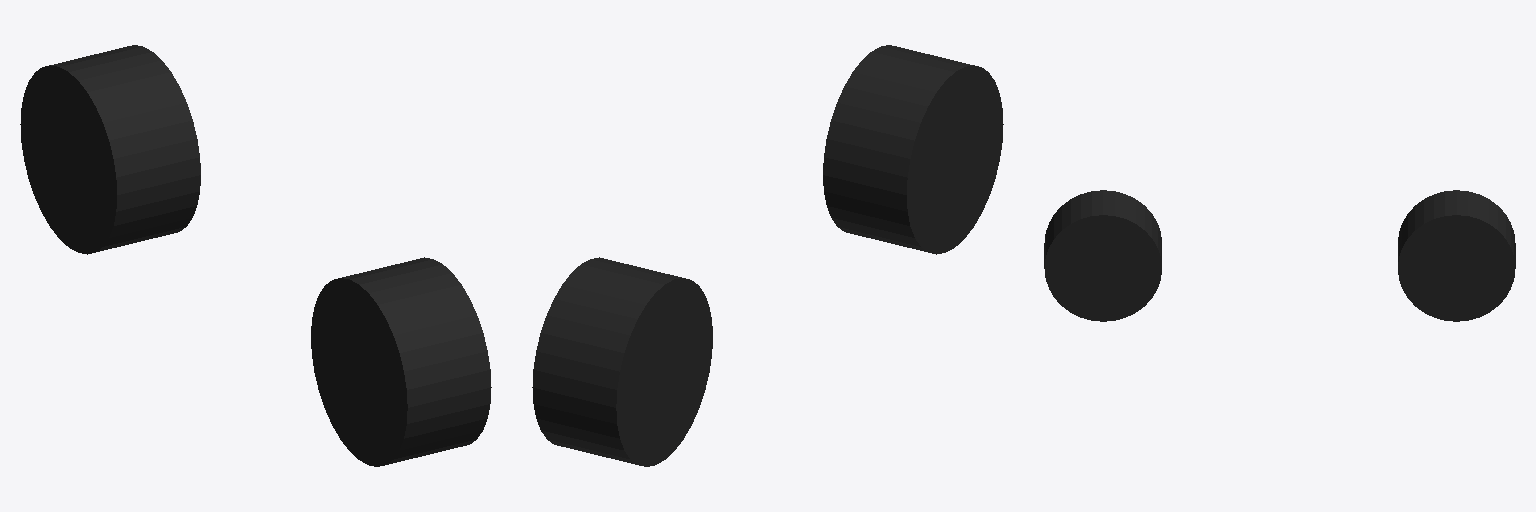
robot.urdf — boat:
<?xml version="1.0"?>
<!--
  boat.urdf: simple hand-written URDF for RViz2 and TF. Not used by Gazebo,
  the sim boat is defined in boat_simulation/worlds/boat_world.sdf.
  Frame ids match gps_publisher and camera_publisher.
-->
<robot name="boat">

  <material name="hull_red">
    <color rgba="0.8 0.1 0.1 1.0"/>
  </material>
  <material name="prop_grey">
    <color rgba="0.2 0.2 0.2 1.0"/>
  </material>

  <link name="base_link">
    <!-- Hull mesh, STL in centimetres. TODO: this is an absolute path from
         an old laptop, point it at a mesh inside the repo. -->
    <visual>
      <geometry>
        <mesh filename="file:///mnt/c/Users/Bruker/Documents/MARITIME.SURFACE.VESSEL/Design/3D.PRINT/ASV_3D.Print.070826.stl" scale="0.01 0.01 0.01"/>
      </geometry>
      <material name="hull_red"/>
    </visual>
    <!-- Collision and inertia: 50 x 30 cm, height ~15 cm (estimate). -->
    <collision>
      <geometry>
        <box size="0.5 0.3 0.15"/>
      </geometry>
    </collision>
    <inertial>
      <mass value="8.0"/>
      <inertia ixx="0.075" ixy="0" ixz="0" iyy="0.182" iyz="0" izz="0.227"/>
    </inertial>
  </link>

  <link name="left_propeller">
    <visual>
      <geometry>
        <cylinder radius="0.05" length="0.05"/>
      </geometry>
      <material name="prop_grey"/>
    </visual>
  </link>
  <joint name="left_propeller_joint" type="fixed">
    <parent link="base_link"/>
    <child link="left_propeller"/>
    <origin xyz="-0.25 0.15 0" rpy="0 1.5707963 0"/>
  </joint>

  <link name="right_propeller">
    <visual>
      <geometry>
        <cylinder radius="0.05" length="0.05"/>
      </geometry>
      <material name="prop_grey"/>
    </visual>
  </link>
  <joint name="right_propeller_joint" type="fixed">
    <parent link="base_link"/>
    <child link="right_propeller"/>
    <origin xyz="-0.25 -0.15 0" rpy="0 1.5707963 0"/>
  </joint>

  <!-- Sensor frames for TF. -->
  <link name="gps_frame"/>
  <joint name="gps_frame_joint" type="fixed">
    <parent link="base_link"/>
    <child link="gps_frame"/>
    <origin xyz="0 0 0.2" rpy="0 0 0"/>
  </joint>

  <link name="camera_frame"/>
  <joint name="camera_frame_joint" type="fixed">
    <parent link="base_link"/>
    <child link="camera_frame"/>
    <origin xyz="0.4 0 0.15" rpy="0 0 0"/>
  </joint>

</robot>

--- Facts derived from the render (not from the file) ---
3 views of the same robot in one strip: view 1: azimuth 30°, elevation 25°; view 2: azimuth 150°, elevation 25°; view 3: azimuth 270°, elevation 25° (orthographic).
Model boat with 5 links and 4 joints (4 fixed), rooted at base_link, posed every joint at zero.
Visible links, largest first — view 1: left_propeller, right_propeller; view 2: left_propeller, right_propeller; view 3: left_propeller, right_propeller.
Link boxes in pixels (x1,y1,x2,y2): left_propeller: (20,45,200,254); right_propeller: (311,257,491,466); left_propeller: (532,257,712,466); right_propeller: (823,45,1003,254); left_propeller: (1398,190,1515,321); right_propeller: (1044,190,1161,321).
Bounding box of the posed robot: 0.05 × 0.4 × 0.1 m (x, y, z).
Geometry: only primitive shapes (box / cylinder / sphere) drawn; not drawn: 1 mesh visual (reference in a form the renderer does not follow).
